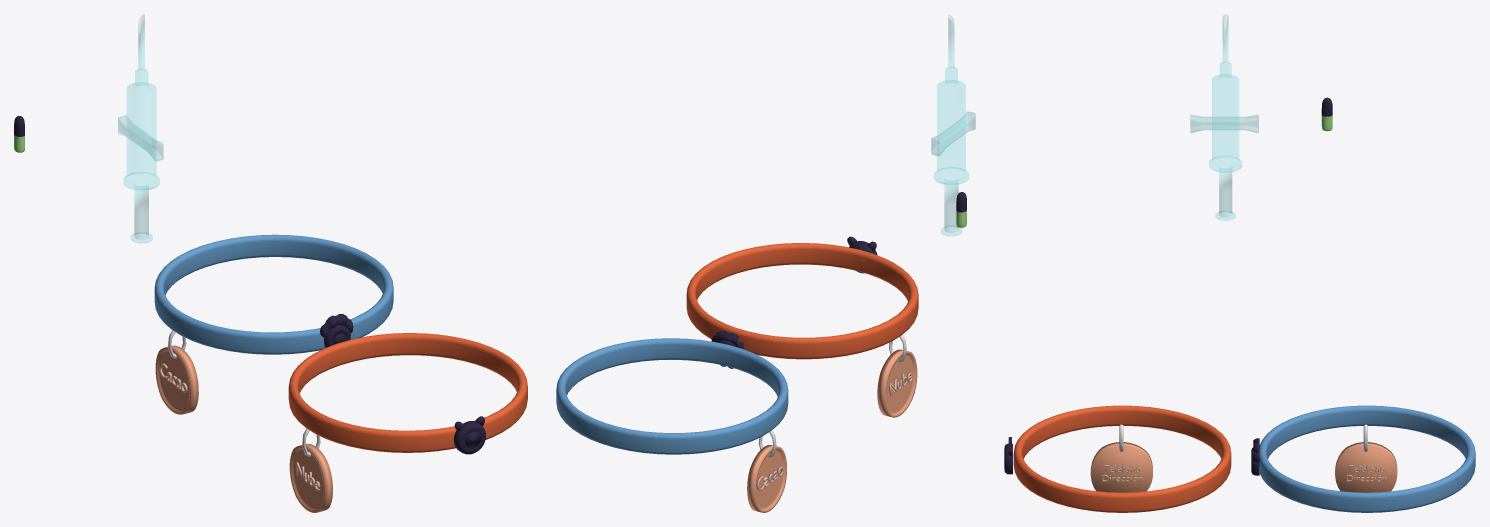
Rendered from rastreo.glb.
The picture shows the model from 3 angles, left to right: view 1: azimuth 30°, elevation 25°; view 2: azimuth 150°, elevation 25°; view 3: azimuth 270°, elevation 25°; orthographic projection. The views are drawn at different scales.
Visible parts, largest first — view 1: collar perro, collar gato, jeringa, placa cacao, placa nube, rastreador gato, rastreador perro; view 2: collar perro, collar gato, jeringa, placa nube, placa cacao; view 3: collar gato, collar perro, jeringa, placa cacao, placa nube.
Boxes of the visible parts, x1,y1,x2,y2 form: collar perro: (154, 234, 393, 354); collar gato: (288, 333, 527, 452); jeringa: (118, 14, 163, 243); placa cacao: (155, 330, 198, 414); placa nube: (289, 428, 332, 512); rastreador gato: (453, 416, 485, 454); rastreador perro: (320, 314, 353, 347); collar perro: (556, 338, 788, 454); collar gato: (686, 243, 918, 359); jeringa: (931, 14, 975, 236); placa nube: (877, 335, 917, 417); placa cacao: (747, 430, 786, 512); collar gato: (1013, 405, 1231, 512); collar perro: (1259, 405, 1475, 512); jeringa: (1190, 14, 1258, 220); placa cacao: (1335, 424, 1397, 492); placa nube: (1090, 424, 1152, 492).
Bounding box in the file's own units: 1.8 × 2.15 × 2.1.
